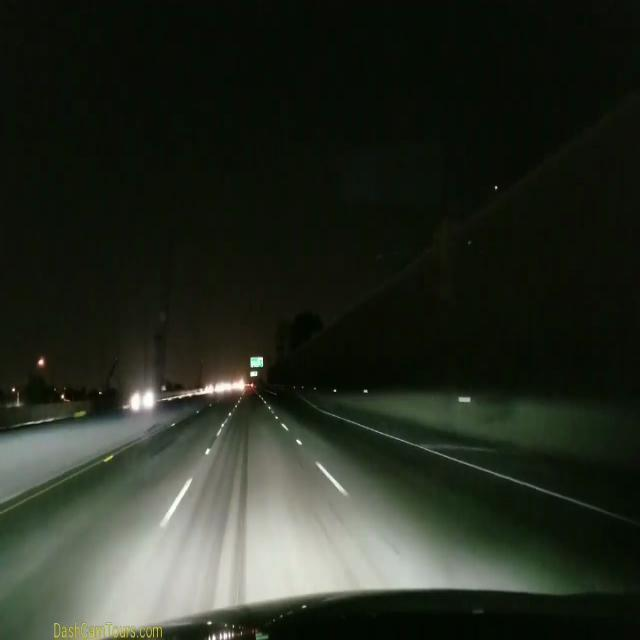street-signs: (250, 356, 264, 368), (250, 372, 258, 378)
